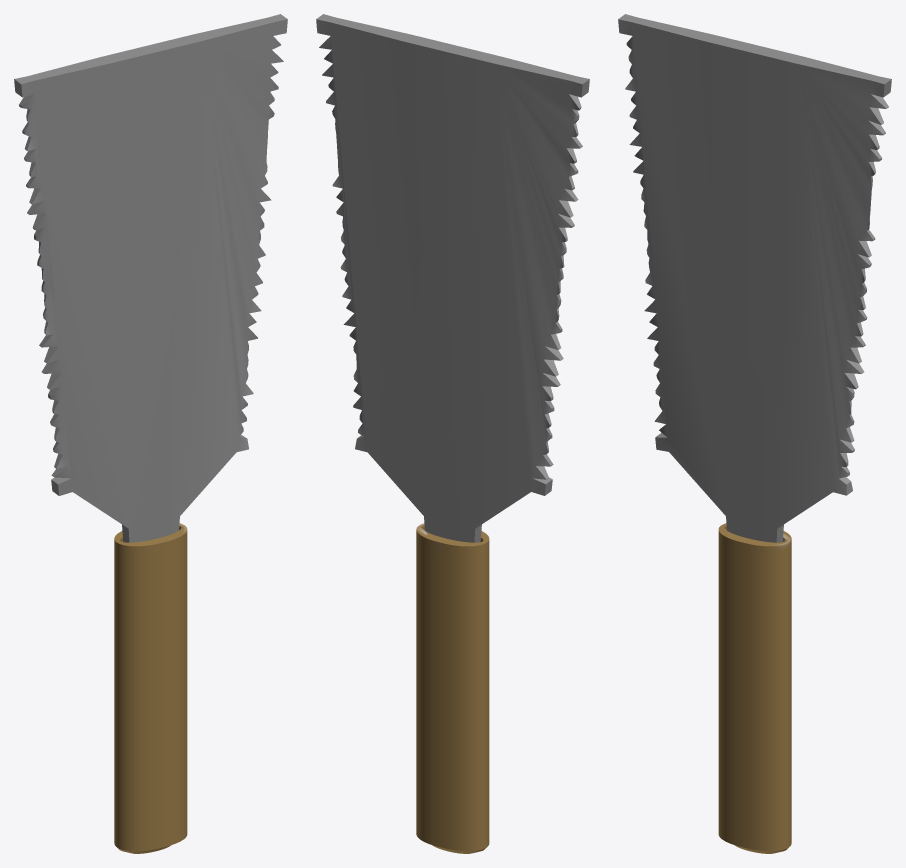
File: saw2.fbx
The picture shows the model from 3 angles, left to right: view 1: azimuth 30°, elevation 25°; view 2: azimuth 150°, elevation 25°; view 3: azimuth 330°, elevation 25°; orthographic projection.
Visible parts, largest first — view 1: Plane; view 2: Plane; view 3: Plane.
Part boxes in pixels (bbox=[...]): Plane: bbox=[14, 14, 287, 853]; Plane: bbox=[316, 14, 589, 853]; Plane: bbox=[618, 14, 891, 853].
Size of the model in its own units: 103 by 297 by 15.89.
